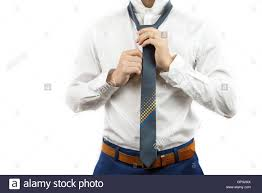F_belt: (96, 138, 206, 170)
F_shirt: (58, 2, 240, 156)
F_tie: (123, 2, 172, 168)
